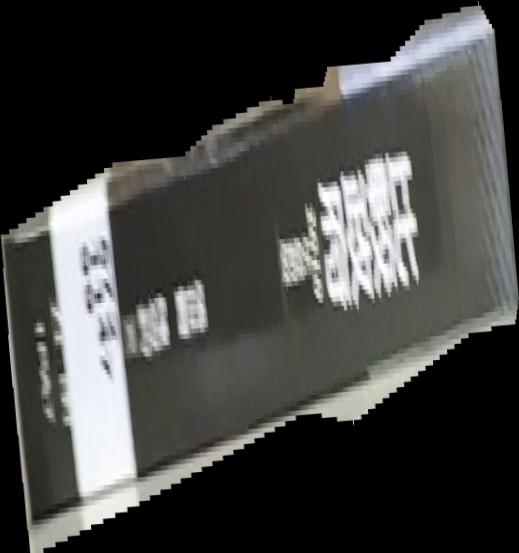flat: (1, 1, 519, 553)
